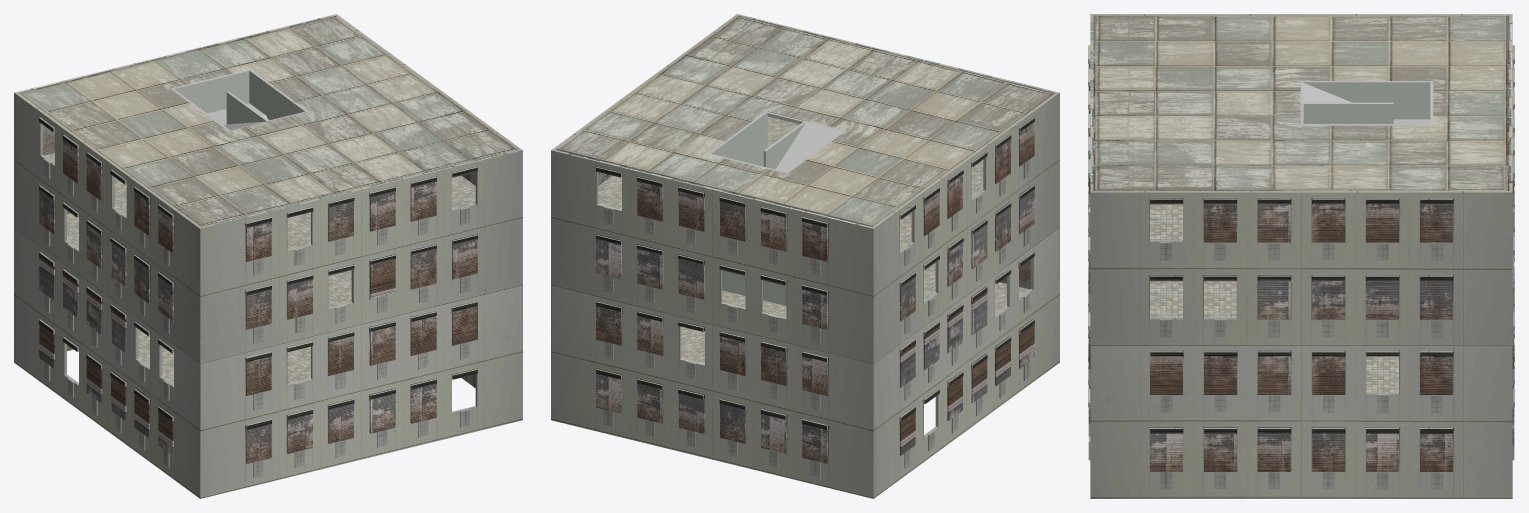
File: BagSS03mid_high.fbx
The picture shows the model from 3 angles, left to right: view 1: azimuth 30°, elevation 25°; view 2: azimuth 150°, elevation 25°; view 3: azimuth 270°, elevation 25°; orthographic projection. The views are drawn at different scales.
Parts seen in each view (by area): view 1: midMain700, midFloors700, midWindows700, midstairwell700, midinterior700, midStairs700; view 2: midMain700, midFloors700, midWindows700, midstairwell700, midStairs700, midinterior700; view 3: midMain700, midFloors700, midWindows700, midstairwell700, midStairs700.
Boxes of the visible parts, x1,y1,x2,y2 form: midMain700: (14, 14, 522, 498); midFloors700: (20, 17, 517, 384); midWindows700: (39, 139, 477, 463); midstairwell700: (170, 69, 304, 125); midinterior700: (19, 16, 475, 387); midStairs700: (172, 70, 308, 131); midMain700: (551, 14, 1059, 498); midFloors700: (557, 16, 1054, 363); midWindows700: (596, 122, 1034, 463); midstairwell700: (707, 113, 843, 305); midStairs700: (709, 111, 845, 172); midinterior700: (556, 16, 1054, 289); midMain700: (1088, 14, 1514, 498); midFloors700: (1095, 15, 1507, 392); midWindows700: (1088, 50, 1514, 471); midstairwell700: (1302, 81, 1433, 125); midStairs700: (1300, 81, 1430, 125).
Bounding box in the file's own units: 20.7 × 16.43 × 20.7.
